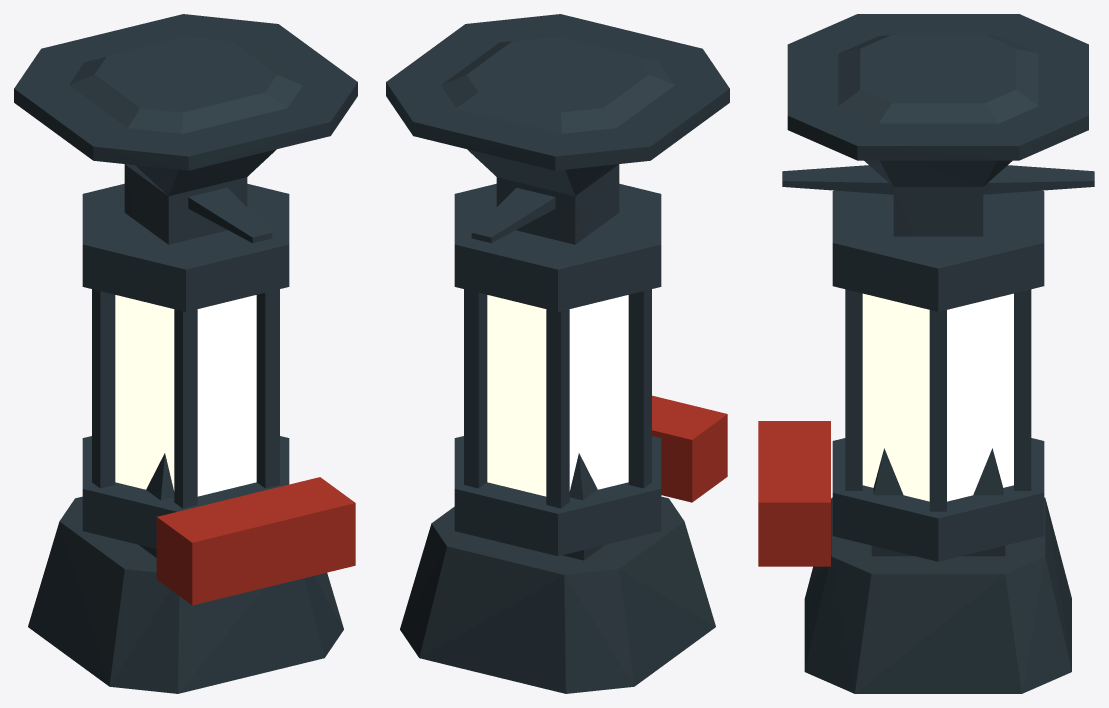
File: dock-lantern-coral.glb
3 renders of one model, left to right at view 1: azimuth 30°, elevation 25°; view 2: azimuth 150°, elevation 25°; view 3: azimuth 270°, elevation 25°, orthographic. The views are drawn at different scales.
Parts seen in each view (by area): view 1: dock-lantern-coral; view 2: dock-lantern-coral; view 3: dock-lantern-coral.
Boxes of the visible parts, x1,y1,x2,y2 form: dock-lantern-coral: [14, 14, 357, 693]; dock-lantern-coral: [386, 14, 729, 693]; dock-lantern-coral: [758, 14, 1094, 693].
Bounding box in the file's own units: 0.34 × 0.68 × 0.3659.
